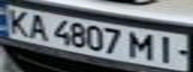0: (84, 23, 106, 53)
4: (48, 17, 72, 46)
7: (103, 25, 127, 56)
8: (66, 20, 87, 50)
A: (24, 12, 51, 42)
I: (151, 34, 184, 65)
K: (0, 7, 33, 37)
M: (127, 29, 160, 61)
